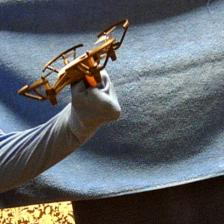drone: (16, 20, 135, 104)
